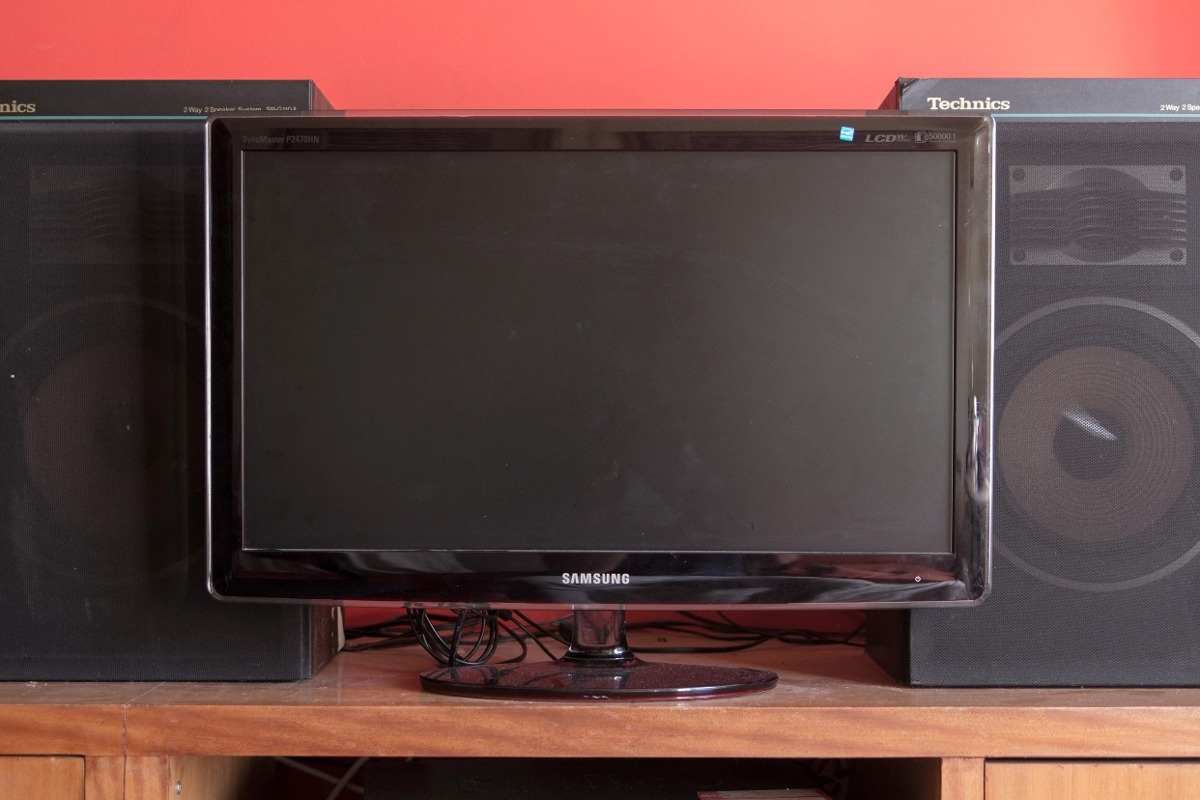tvmonitor: (201, 110, 1000, 702)
